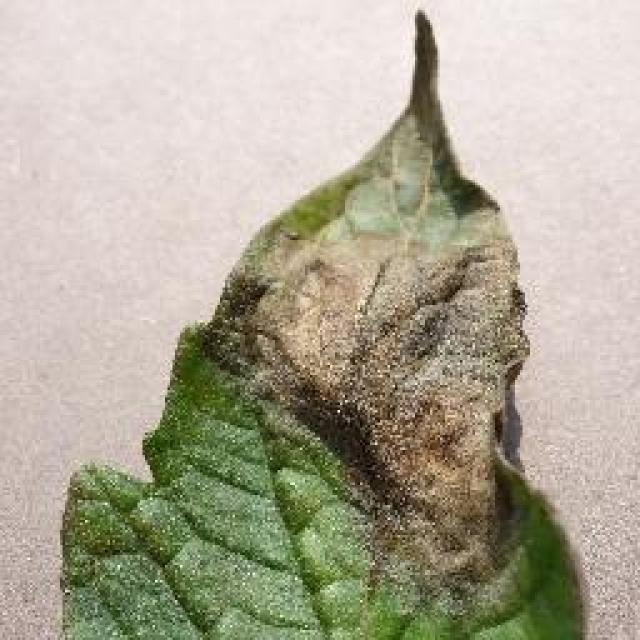Tomato Late Blight: (187, 88, 608, 562)
